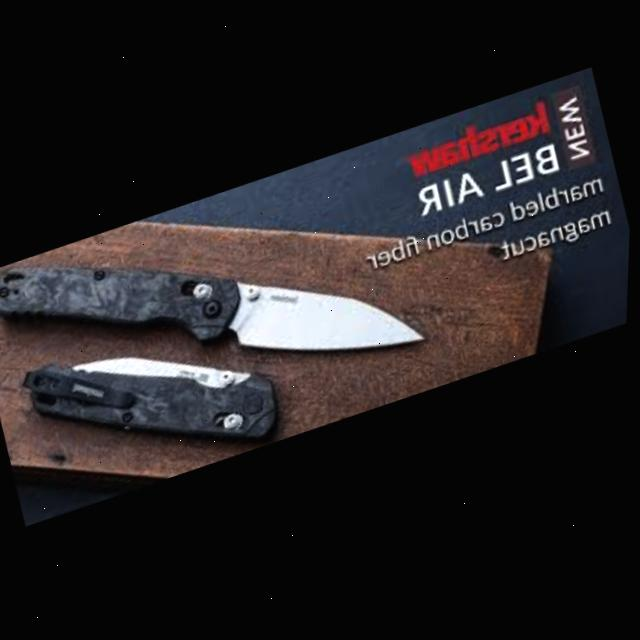Knife: (0, 143, 434, 476)
